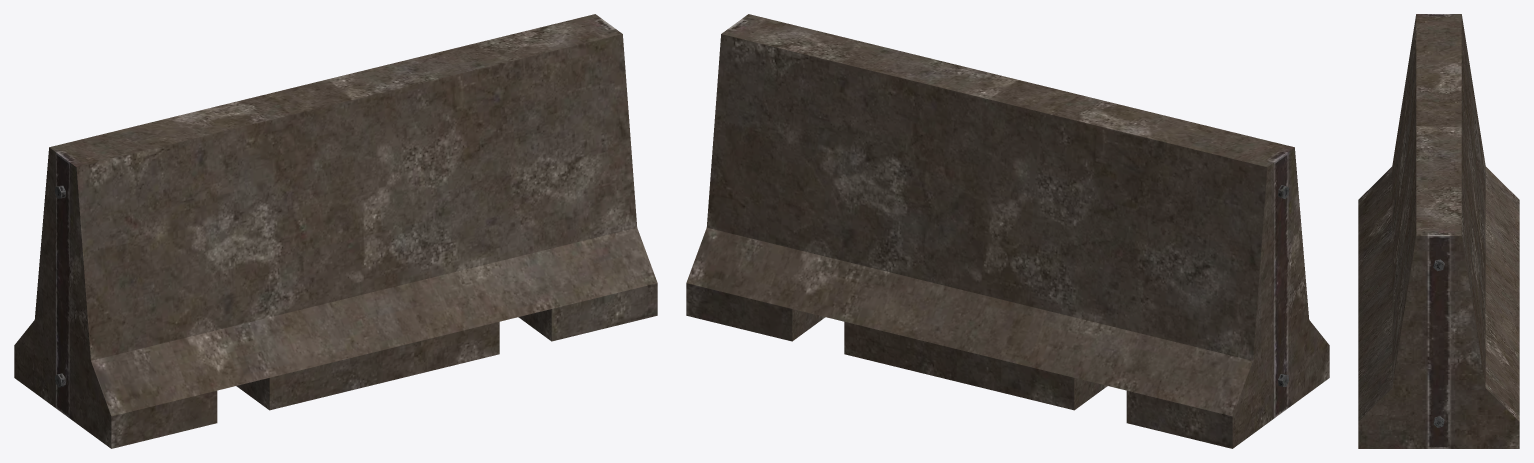
The model's file is barricade.glb.
3 views of the same model, side by side, from view 1: azimuth 30°, elevation 25°; view 2: azimuth 150°, elevation 25°; view 3: azimuth 270°, elevation 25° (orthographic). The views are drawn at different scales.
Parts seen in each view (by area): view 1: barricade_barricade_0; view 2: barricade_barricade_0; view 3: barricade_barricade_0.
Boxes of the visible parts, x1,y1,x2,y2 form: barricade_barricade_0: (14, 14, 657, 448); barricade_barricade_0: (686, 14, 1329, 448); barricade_barricade_0: (1358, 14, 1519, 448).
Bounding box in the file's own units: 2.38 × 1.05 × 0.7188.
1 material, 1 textured.
